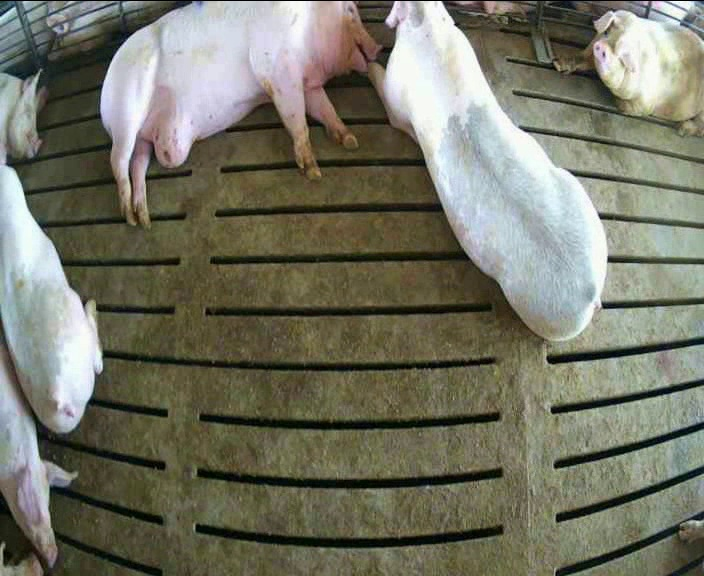pig: (369, 2, 606, 340), (100, 2, 378, 222), (554, 10, 703, 135)
